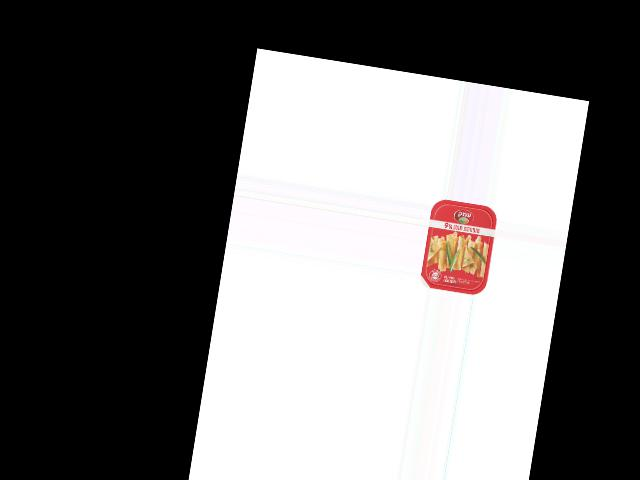cheese: (419, 197, 499, 297)
